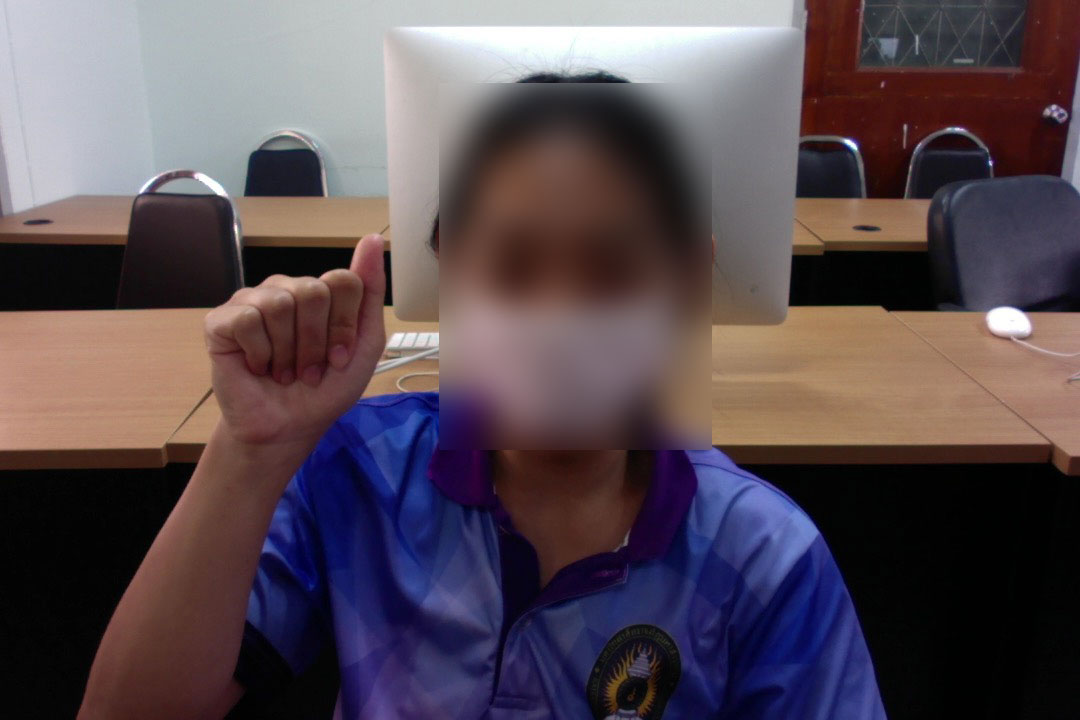or: (192, 226, 396, 453)
